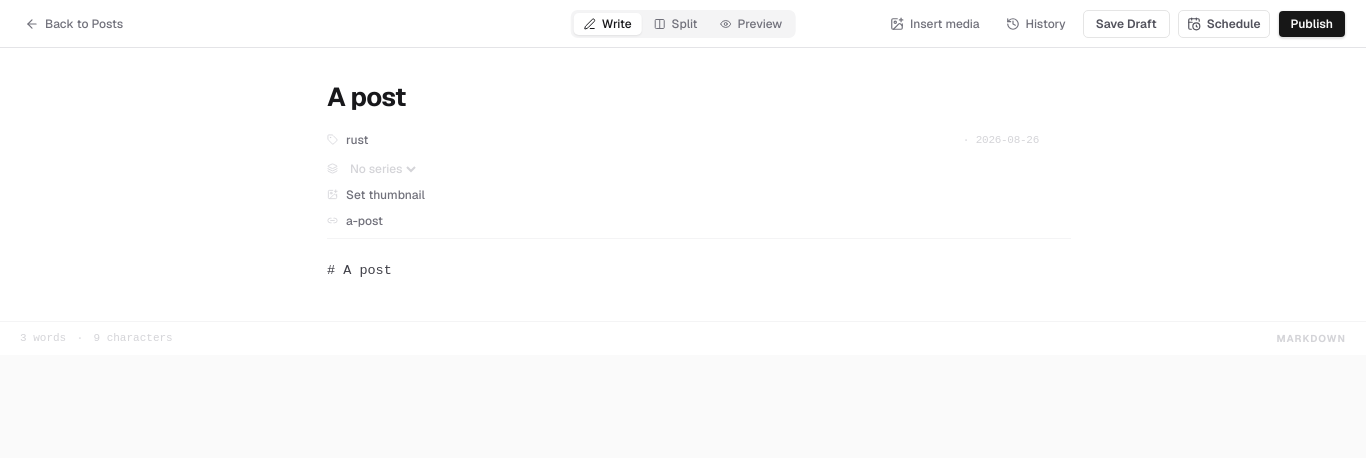
Test: the pre-publish check › holds the publish and says what it found
Click the button "Publish". click: (1312, 24)
box: x1=1278 y1=10 x2=1346 y2=38
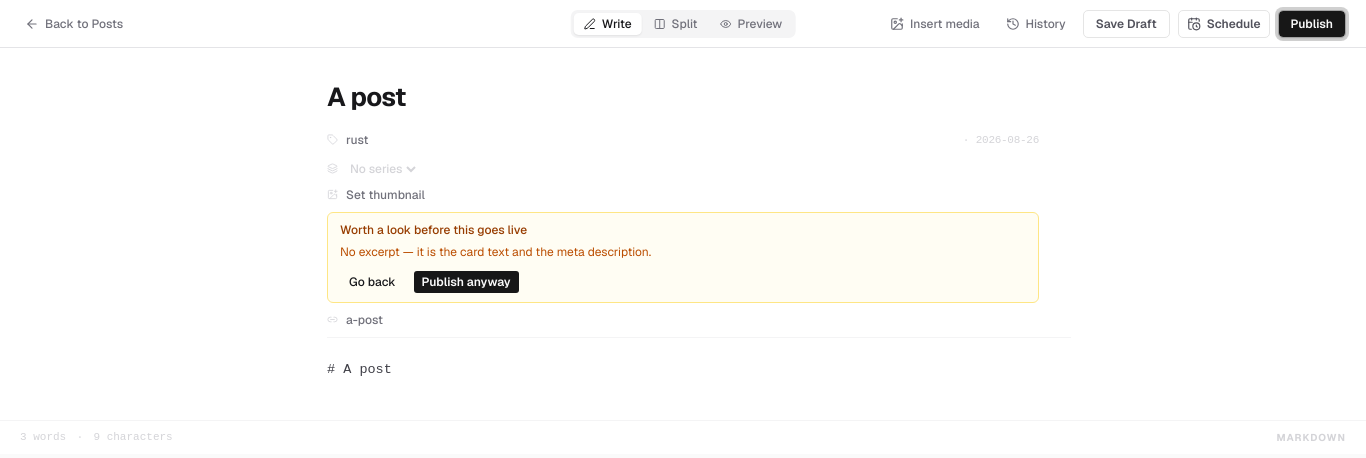
Result: the text "Worth a look before this goes live" is shown at x1=340 y1=222 x2=527 y2=238
Result: the list item "No excerpt — it is the card text and the meta description." is shown at x1=340 y1=244 x2=651 y2=260
